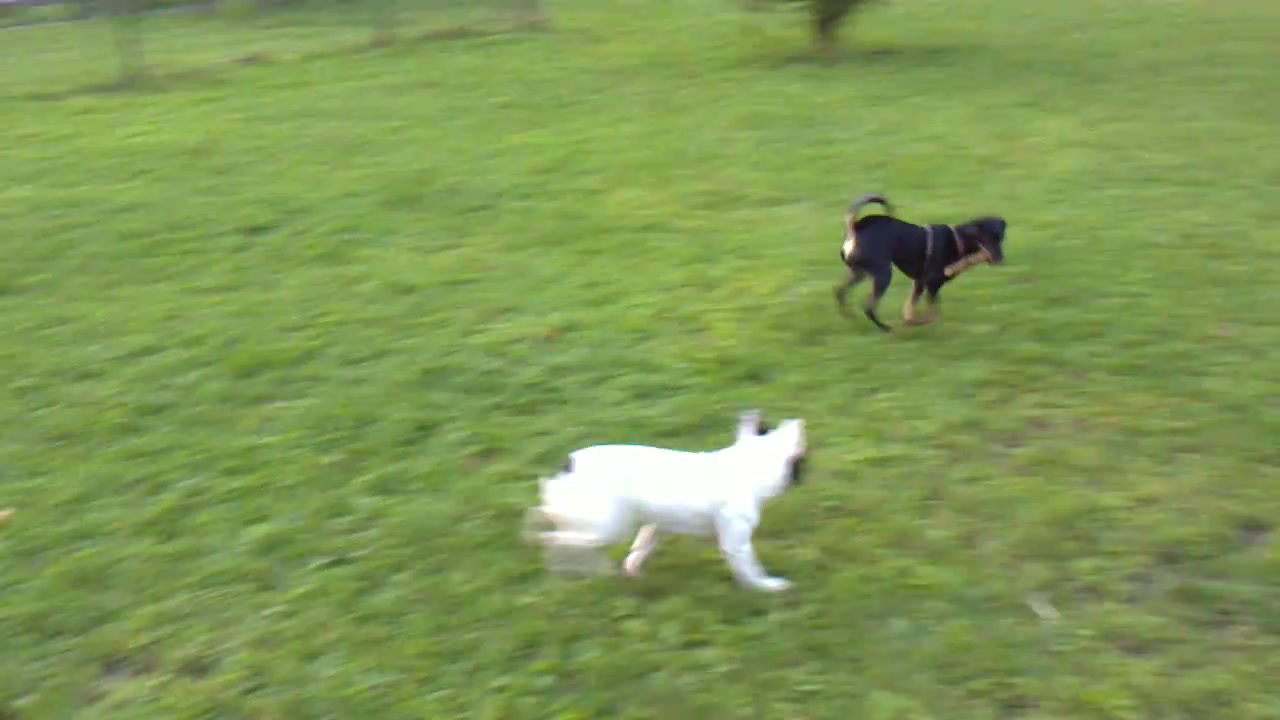dog: (521, 411, 815, 596), (834, 200, 1009, 338)
